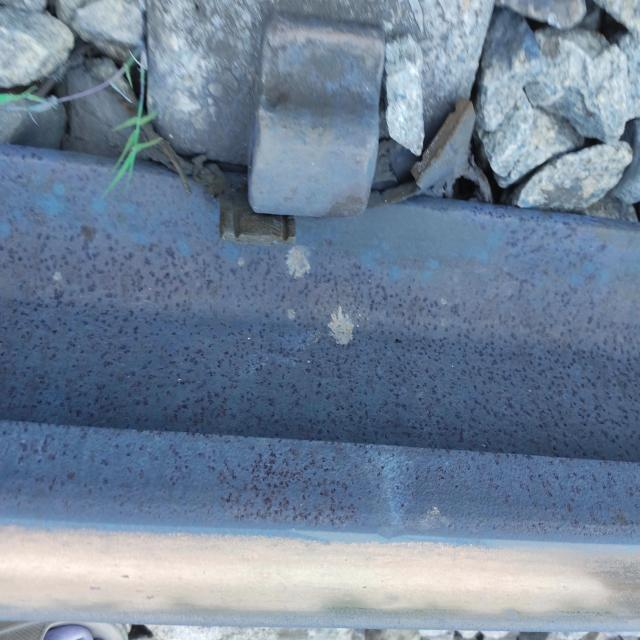Missing Fastener: (189, 0, 391, 244)
